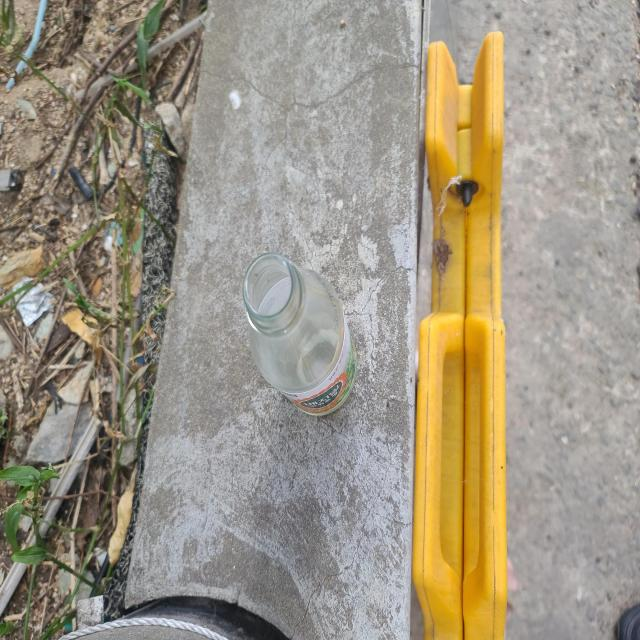glass: (243, 253, 356, 416)
